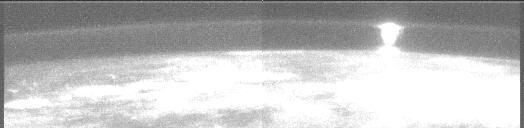positive: (377, 21, 403, 47)
